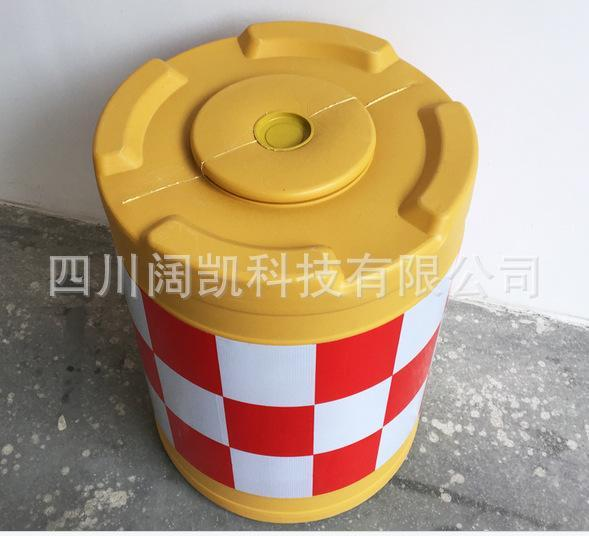sign: (95, 21, 481, 526)
